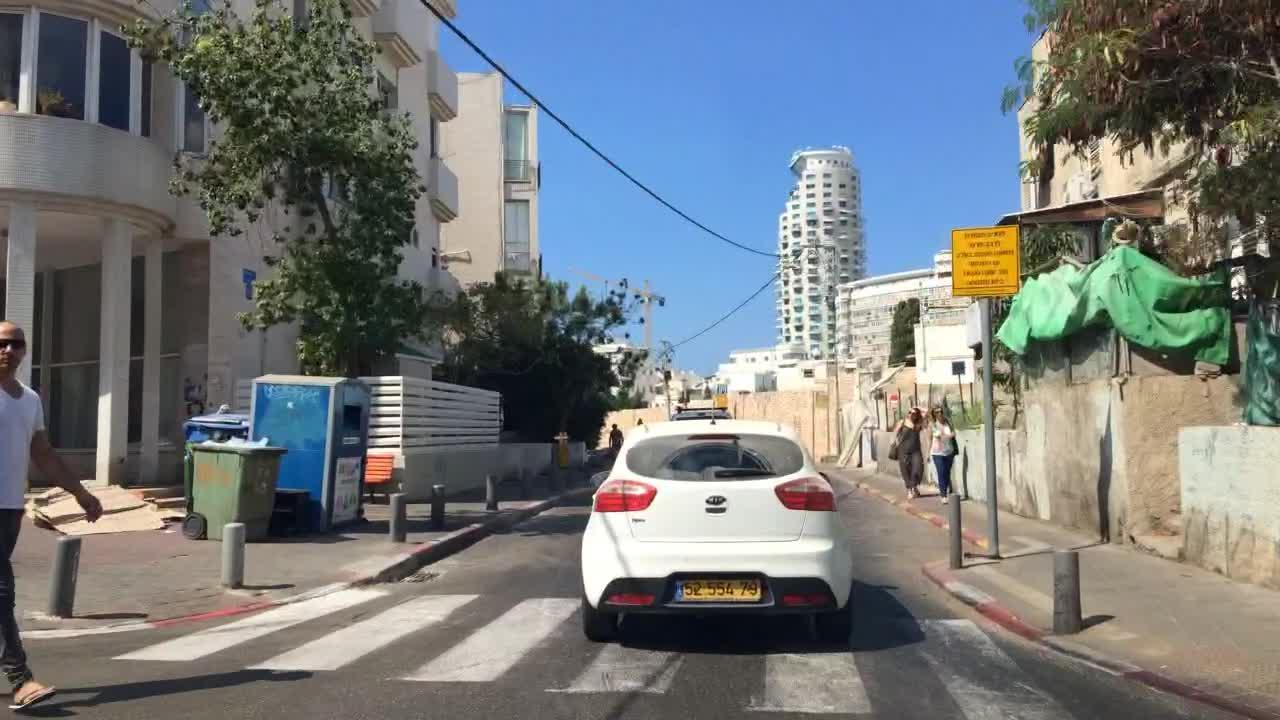kia: (697, 491, 736, 518)
